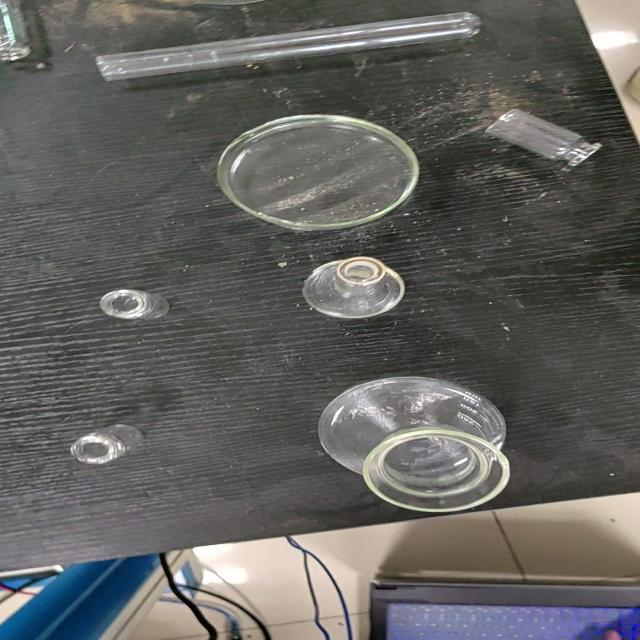cardboard: (0, 0, 639, 579)
cups: (316, 374, 509, 513)
